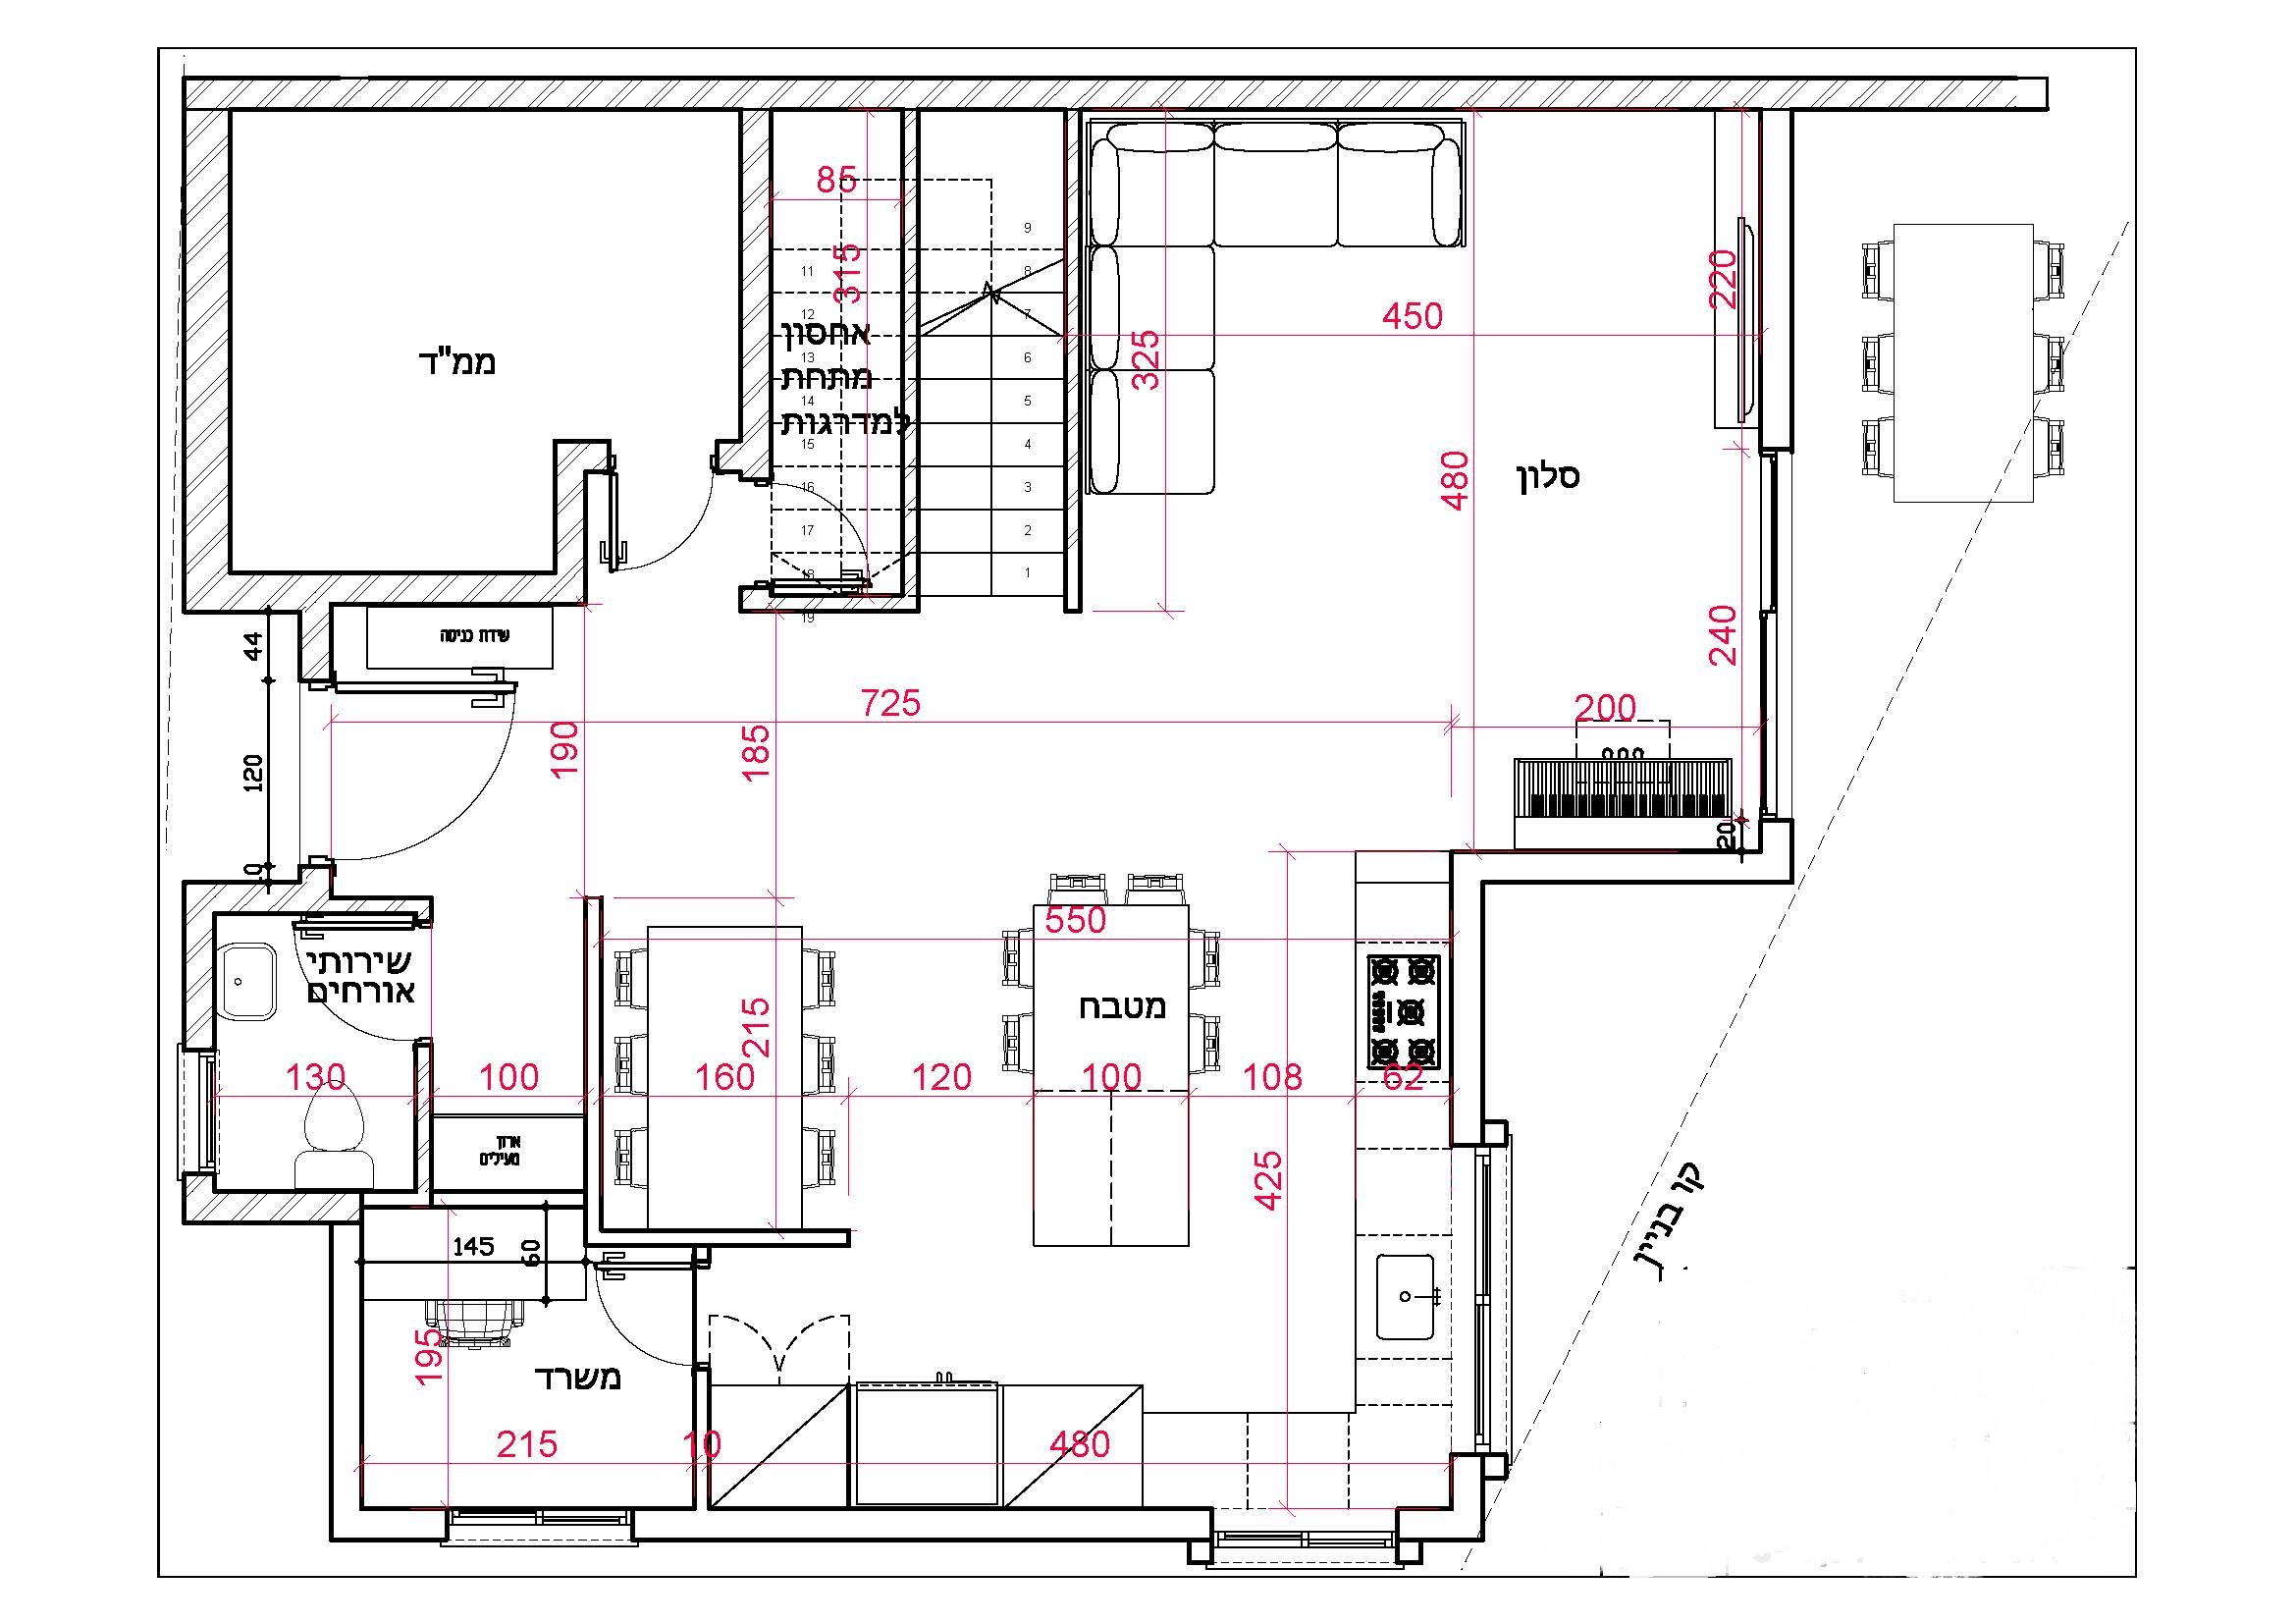door: (342, 673, 532, 869), (593, 478, 725, 580), (592, 1275, 706, 1363), (702, 1305, 851, 1368)
wall: (186, 79, 2048, 114), (186, 111, 233, 610)
window: (1452, 1149, 1513, 1454), (1761, 451, 1792, 819), (1213, 1507, 1401, 1569), (444, 1505, 634, 1551), (176, 1050, 216, 1175)
